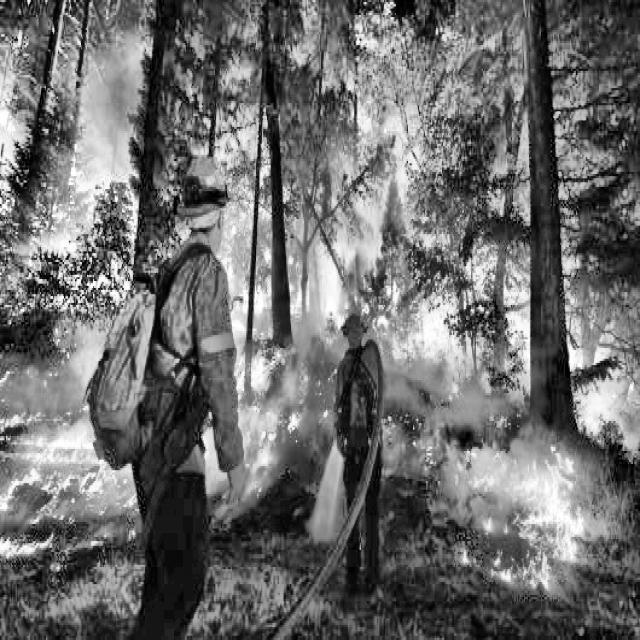fire: (213, 34, 629, 616), (0, 322, 123, 552), (2, 51, 34, 235)
